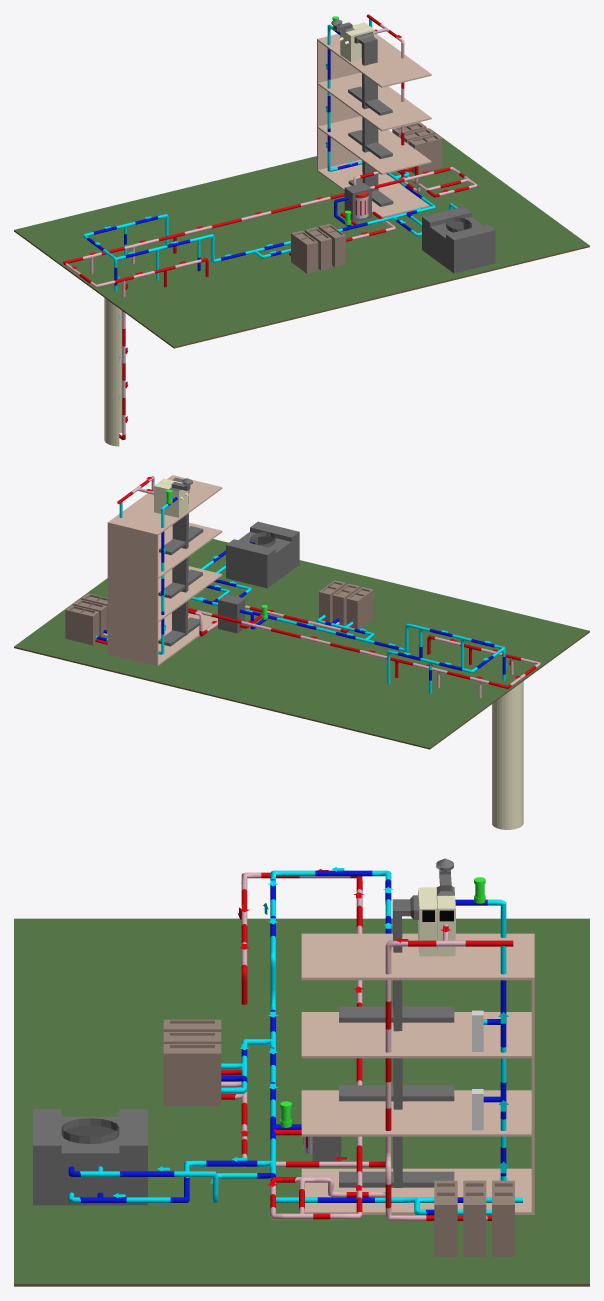
Rendered from main.glb.
3 views of the same model, one above another, from view 1: azimuth 30°, elevation 25°; view 2: azimuth 150°, elevation 25°; view 3: azimuth 270°, elevation 25° (orthographic). The views are drawn at different scales.
Parts seen in each view (by area): view 1: ground, building, pipes.061, Air Cooler, pipes.035, LeftCeilingCooler, well, RMA1, RMA2, Boiler; view 2: ground, building, well, pipes.035, Air Cooler, pipes.061, LeftCeilingCooler, RMA1, RMA2, RightCeilingHeater, Boiler; view 3: ground, building, pipes.035, Air Cooler, pipes.061, LeftCeilingCooler, RMA2, RMA1, RightCeilingHeater, Boiler.
Part boxes in pixels (x1=…): ground: x1=14, y1=128, x2=589, y2=348; building: x1=317, y1=33, x2=431, y2=217; pipes.061: x1=63, y1=14, x2=477, y2=440; Air Cooler: x1=422, y1=207, x2=495, y2=273; pipes.035: x1=83, y1=19, x2=457, y2=291; LeftCeilingCooler: x1=345, y1=26, x2=393, y2=206; well: x1=104, y1=298, x2=122, y2=446; RMA1: x1=291, y1=224, x2=345, y2=273; RMA2: x1=392, y1=122, x2=442, y2=173; Boiler: x1=344, y1=183, x2=371, y2=221; ground: x1=14, y1=539, x2=589, y2=749; building: x1=107, y1=475, x2=222, y2=666; well: x1=492, y1=681, x2=523, y2=829; pipes.035: x1=95, y1=497, x2=505, y2=693; Air Cooler: x1=226, y1=521, x2=299, y2=588; pipes.061: x1=95, y1=476, x2=540, y2=698; LeftCeilingCooler: x1=158, y1=477, x2=203, y2=646; RMA1: x1=319, y1=580, x2=373, y2=629; RMA2: x1=65, y1=593, x2=107, y2=645; RightCeilingHeater: x1=154, y1=478, x2=192, y2=517; Boiler: x1=218, y1=594, x2=245, y2=633; ground: x1=14, y1=918, x2=589, y2=1286; building: x1=301, y1=933, x2=534, y2=1214; pipes.035: x1=68, y1=870, x2=522, y2=1215; Air Cooler: x1=33, y1=1109, x2=147, y2=1205; pipes.061: x1=221, y1=872, x2=513, y2=1220; LeftCeilingCooler: x1=339, y1=887, x2=454, y2=1187; RMA2: x1=434, y1=1180, x2=514, y2=1256; RMA1: x1=163, y1=1019, x2=221, y2=1105; RightCeilingHeater: x1=436, y1=858, x2=455, y2=956; Boiler: x1=303, y1=1136, x2=341, y2=1161.
Bounding box in the file's own units: 31.18 × 21.88 × 20.
